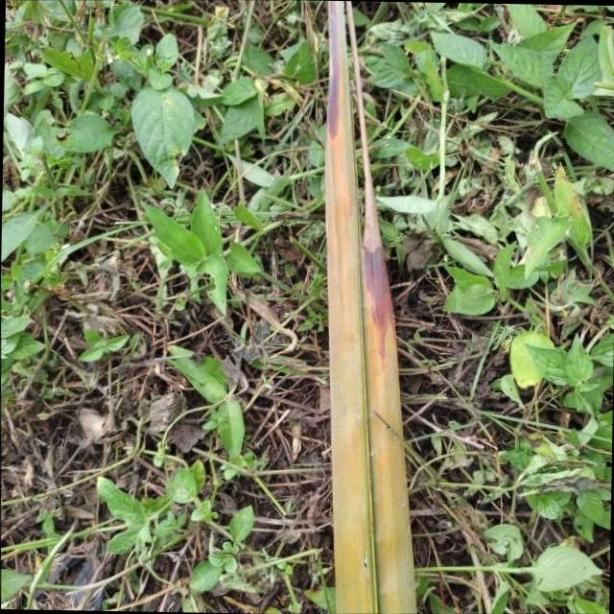Megnesium: (322, 0, 413, 614)
